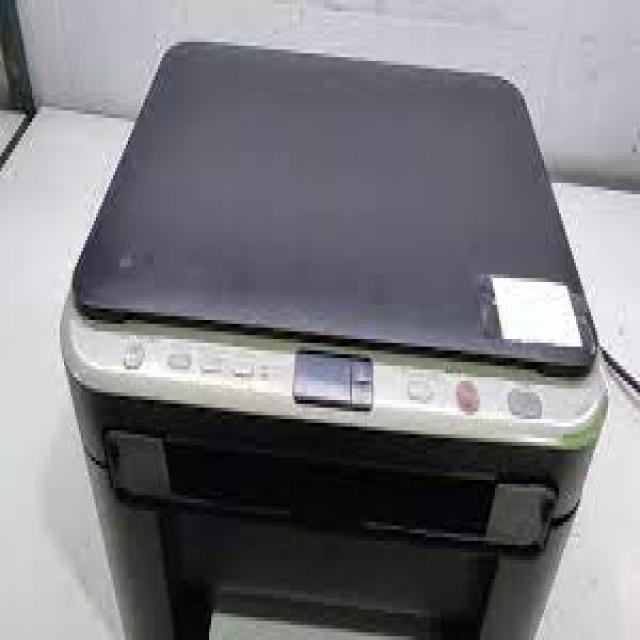printer: (59, 40, 609, 638)
